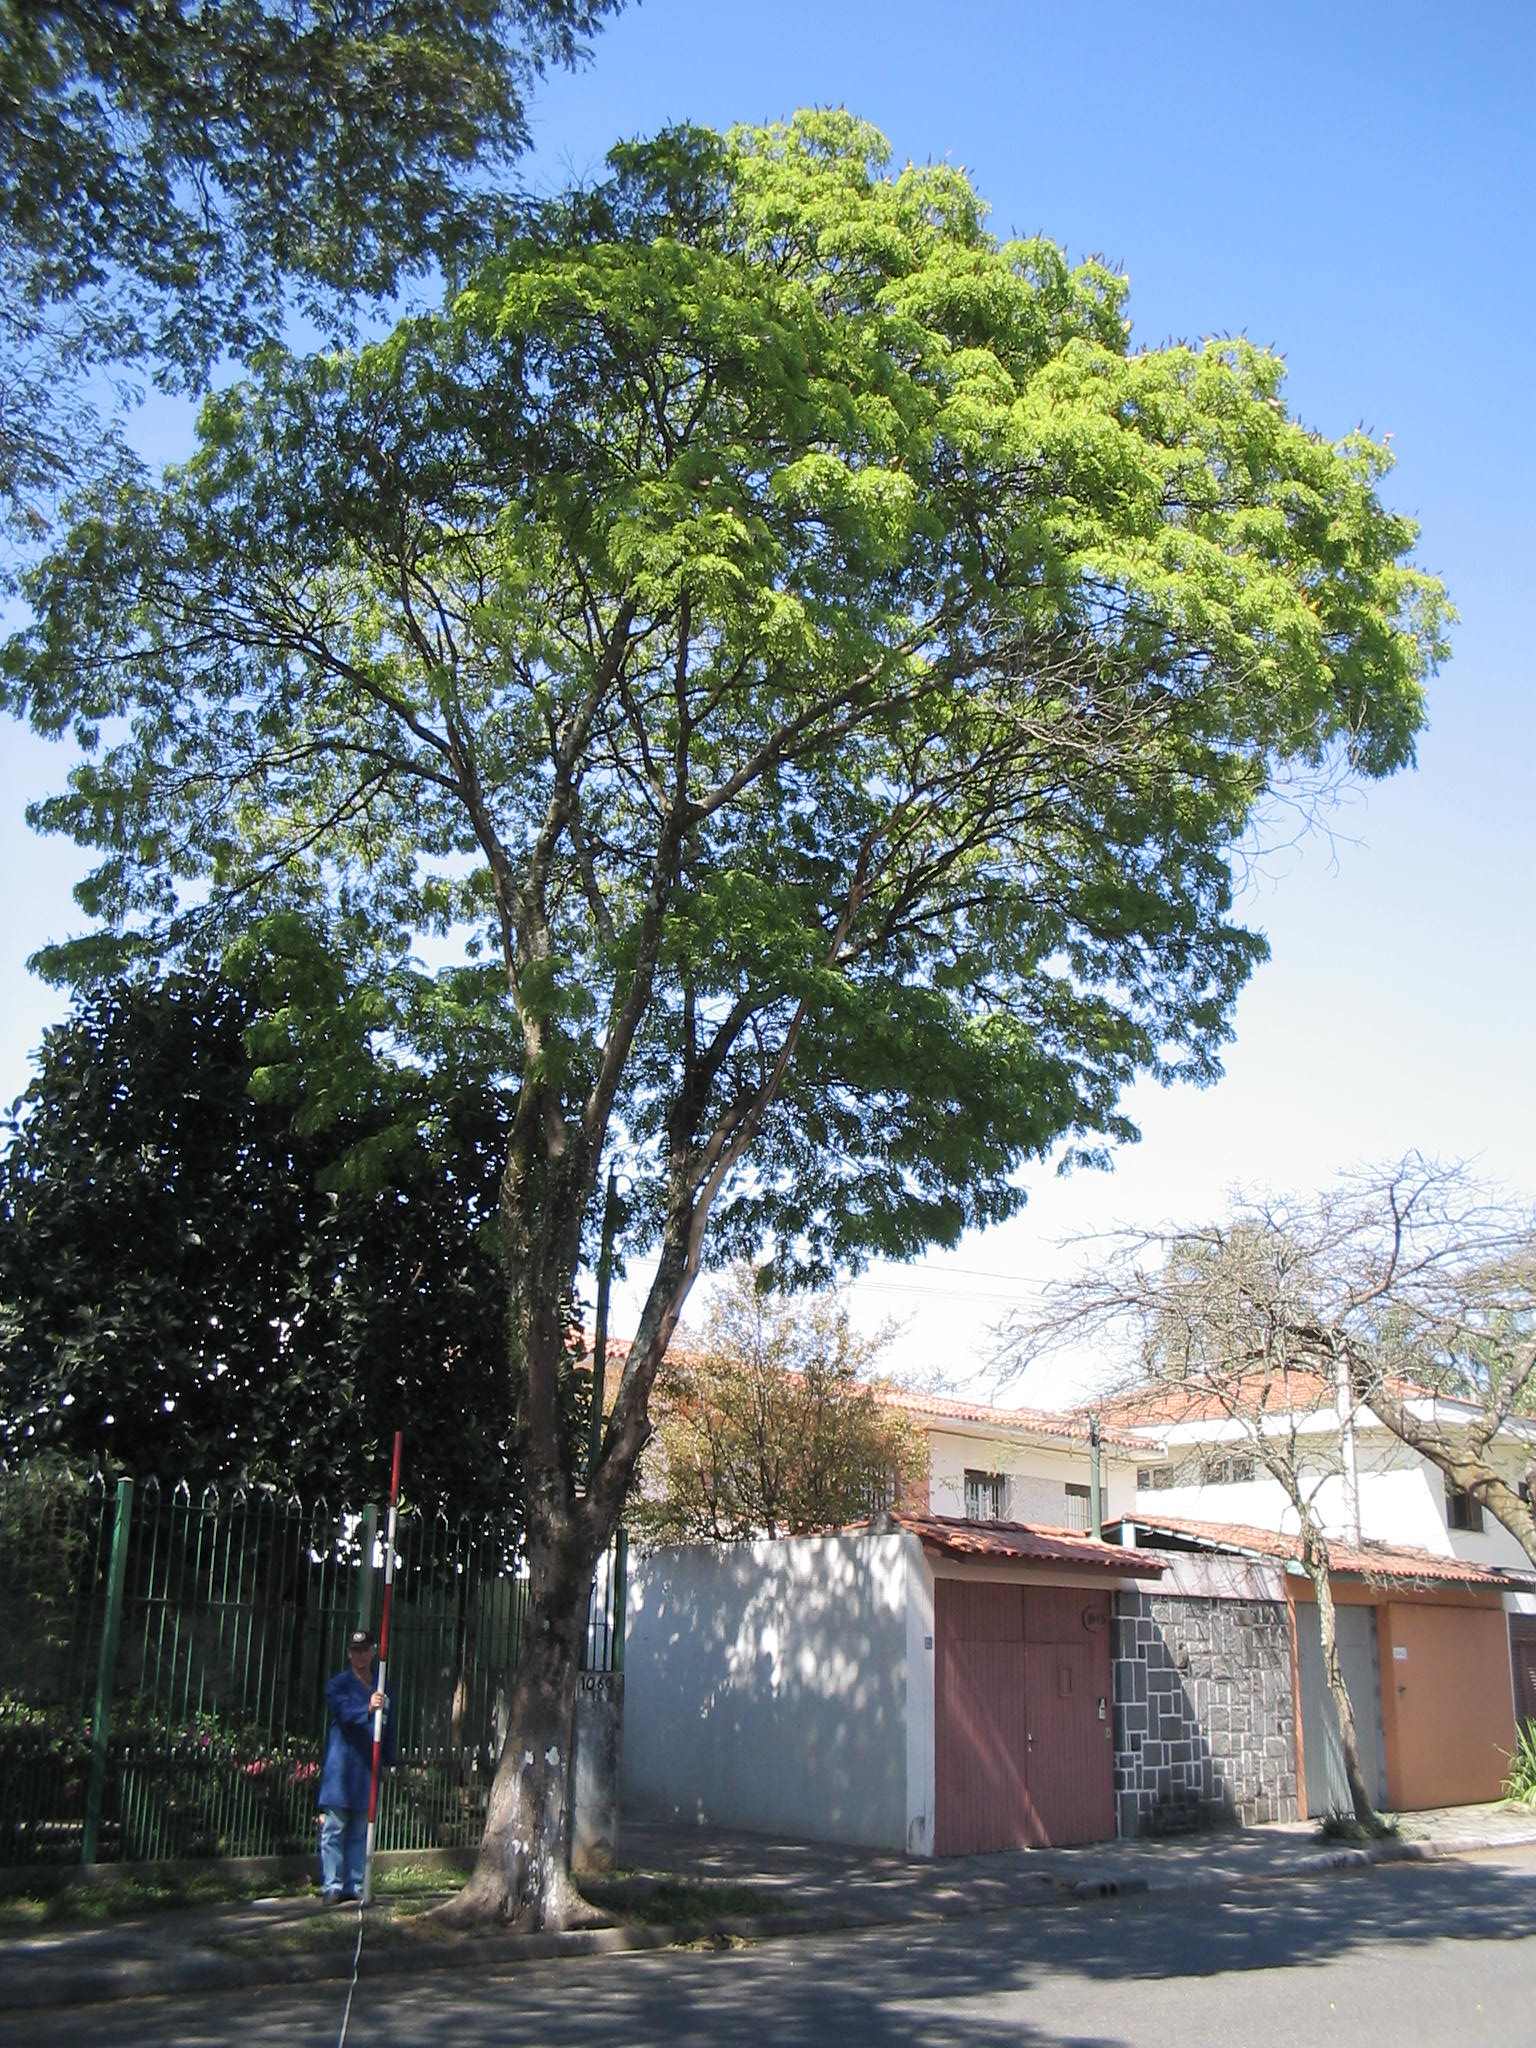crown: (15, 118, 1449, 1317)
stem: (428, 1524, 657, 1921)
stick: (344, 1426, 432, 1901)
tree: (3, 108, 1454, 1924), (987, 1221, 1491, 1825)
